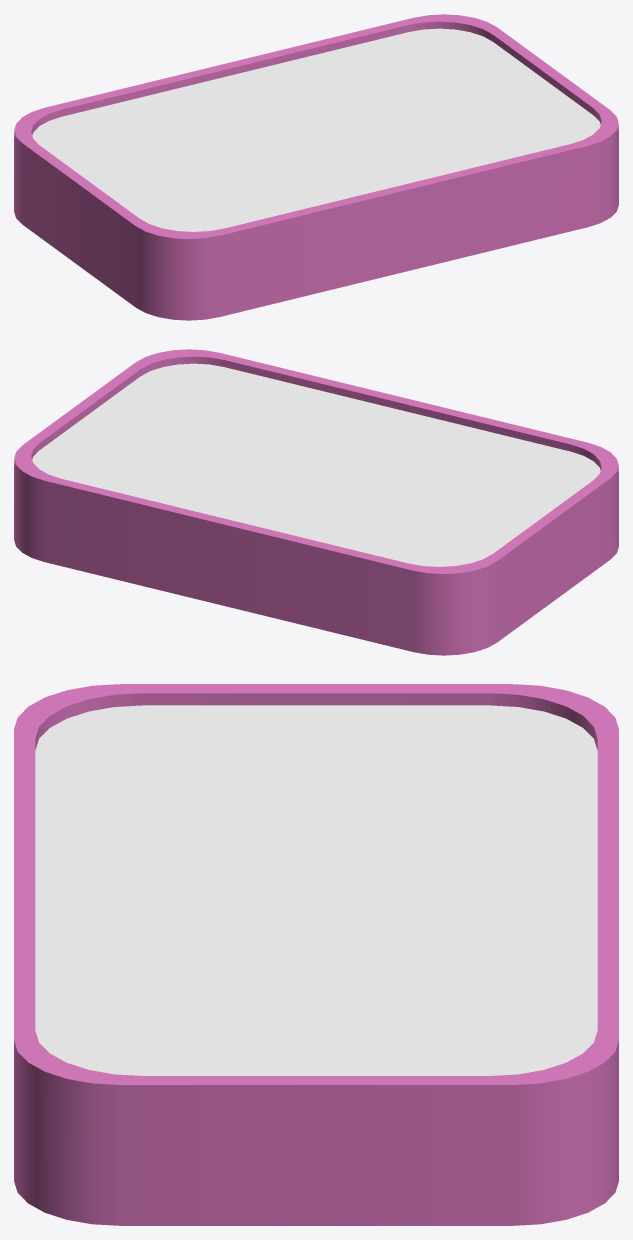
File: area_final.fbx
3 renders of one model, top to bottom at view 1: azimuth 30°, elevation 25°; view 2: azimuth 150°, elevation 25°; view 3: azimuth 270°, elevation 25°, orthographic. The views are drawn at different scales.
Parts seen in each view (by area): view 1: area; view 2: area; view 3: area.
Part boxes in pixels (<box>): area: <box>14,14,618,320</box>; area: <box>14,349,618,655</box>; area: <box>14,684,618,1225</box>.
Size of the model in its own units: 1338 by 219 by 853.
